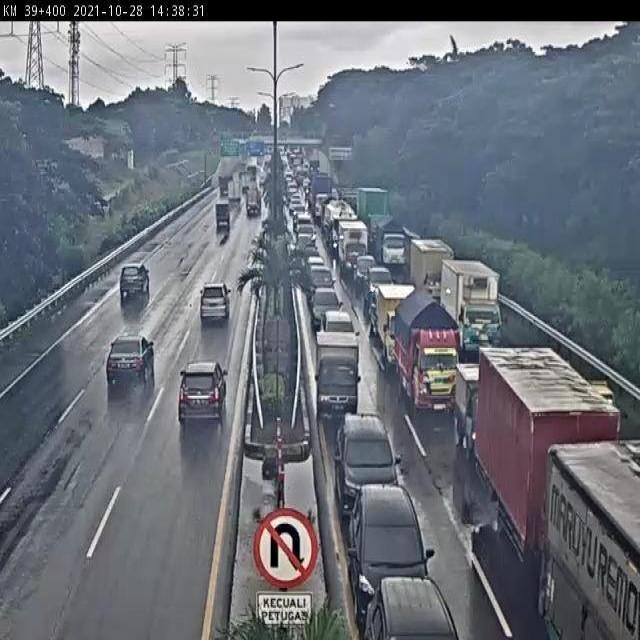big truck: (494, 356, 597, 559), (549, 441, 640, 640), (362, 191, 387, 237), (312, 173, 333, 216)
car: (355, 498, 434, 594), (373, 578, 458, 640), (339, 416, 397, 492), (100, 328, 157, 389), (316, 339, 361, 413), (179, 361, 227, 420), (116, 257, 154, 300), (197, 281, 233, 320), (319, 313, 352, 340), (315, 289, 342, 319), (215, 199, 235, 229), (374, 279, 397, 305), (309, 275, 335, 297), (363, 266, 380, 290), (301, 256, 317, 272), (297, 225, 315, 239), (290, 196, 304, 213), (299, 236, 313, 253), (307, 263, 322, 277), (295, 218, 311, 230), (296, 204, 308, 219), (312, 249, 313, 252), (324, 269, 325, 271), (307, 216, 308, 217)
small truck: (404, 309, 461, 415), (447, 261, 499, 351), (458, 371, 486, 461), (379, 286, 406, 358), (410, 239, 443, 297), (344, 230, 373, 278), (383, 221, 409, 268), (327, 199, 349, 252), (245, 183, 264, 217), (225, 180, 240, 211), (236, 162, 251, 186), (259, 167, 270, 189), (218, 171, 230, 188), (253, 152, 263, 167)
